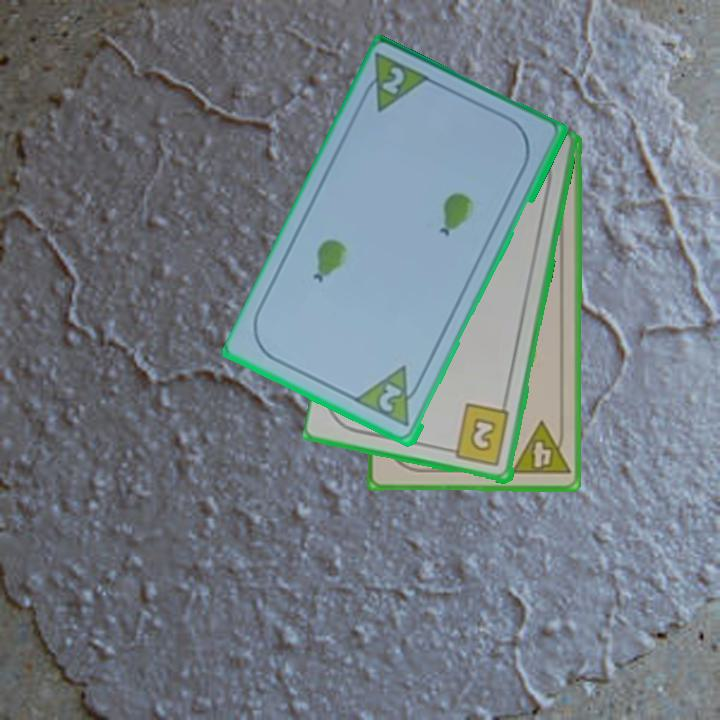2b: (443, 401, 512, 470)
2p: (375, 380, 405, 416), (378, 63, 408, 98)
4p: (507, 418, 572, 478)
